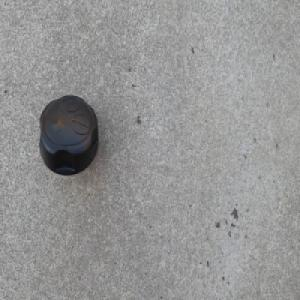FuelCap: (37, 94, 100, 178)
